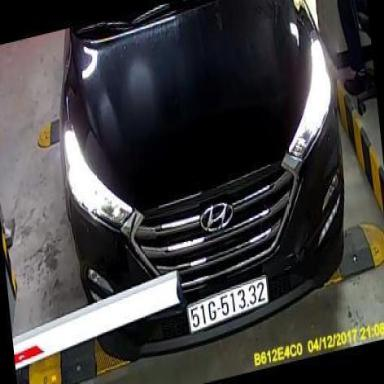License_Plate: (185, 275, 276, 337)
